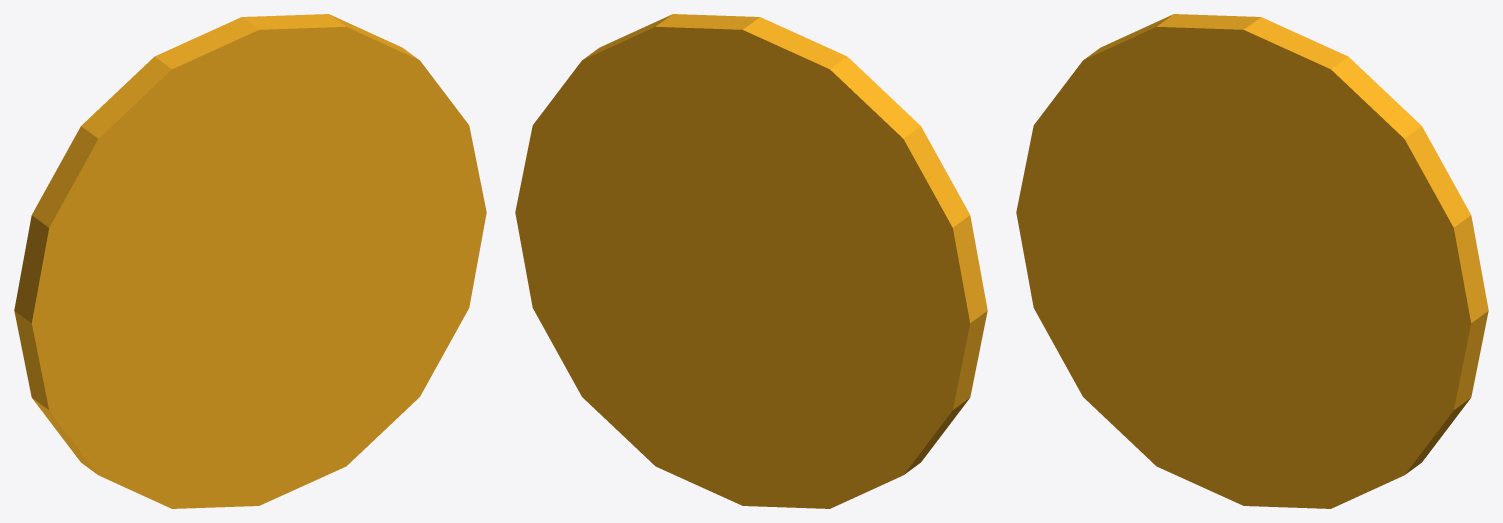
File: animusforge_denar_coin.obj
3 renders of one model, left to right at view 1: azimuth 30°, elevation 25°; view 2: azimuth 150°, elevation 25°; view 3: azimuth 330°, elevation 25°, orthographic.
Visible parts, largest first — view 1: animusforge_denar_coin; view 2: animusforge_denar_coin; view 3: animusforge_denar_coin.
Part boxes in pixels (x1,y1,x2,y2): animusforge_denar_coin: [14, 14, 486, 508]; animusforge_denar_coin: [515, 14, 987, 508]; animusforge_denar_coin: [1016, 14, 1488, 508].
Size of the model in its own units: 0.12 by 0.12 by 0.01.
